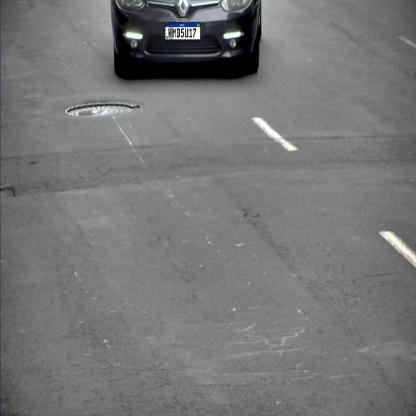PlacaM: (165, 22, 201, 40)
